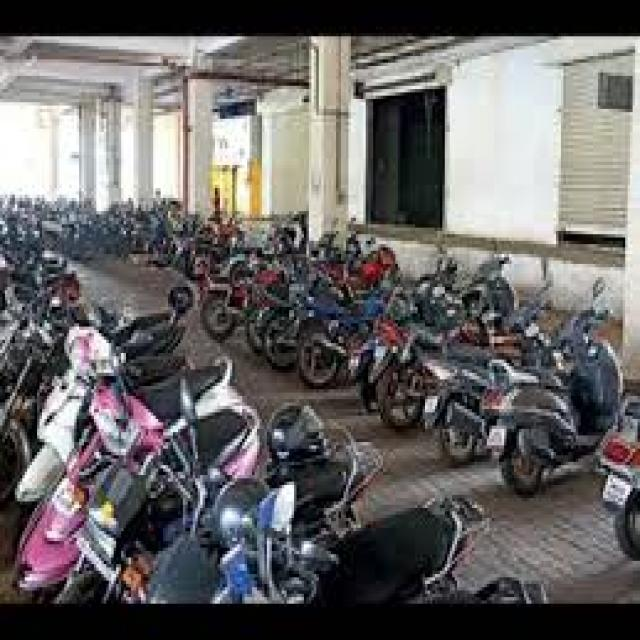No Parking: (64, 153, 627, 578)
